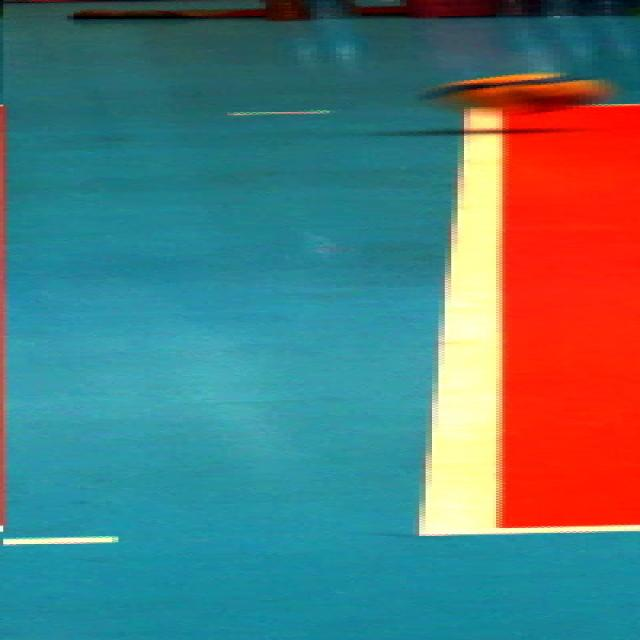Volleyball: (444, 69, 604, 112)
